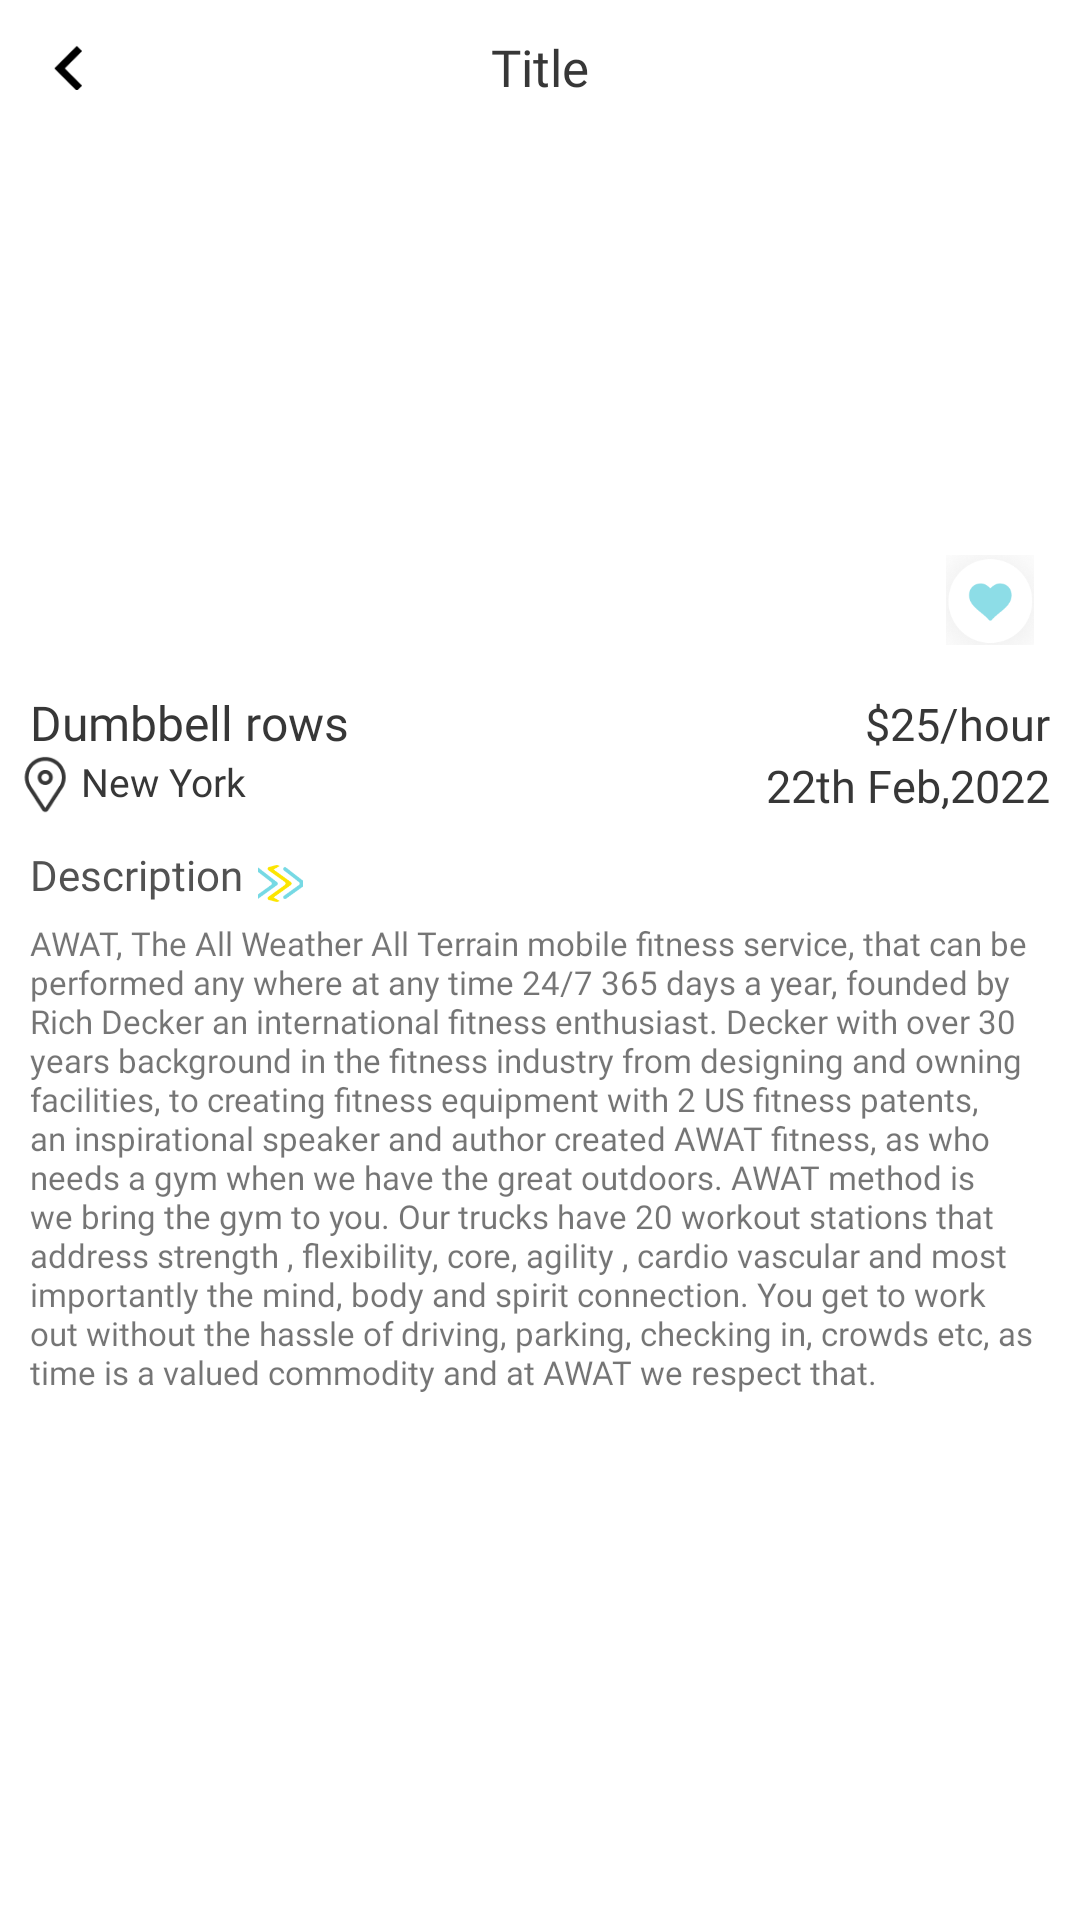

Icons on this 1080 x 1920 Android screen, each with the point to tap as (x=x, y=y):
heart: (x=990, y=602)
left arrow: (x=68, y=68)
location booking: (x=45, y=784)
